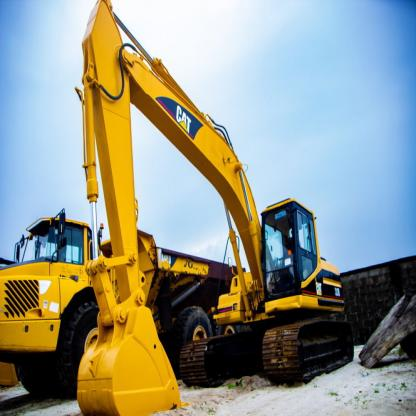excavator: (70, 3, 364, 415)
